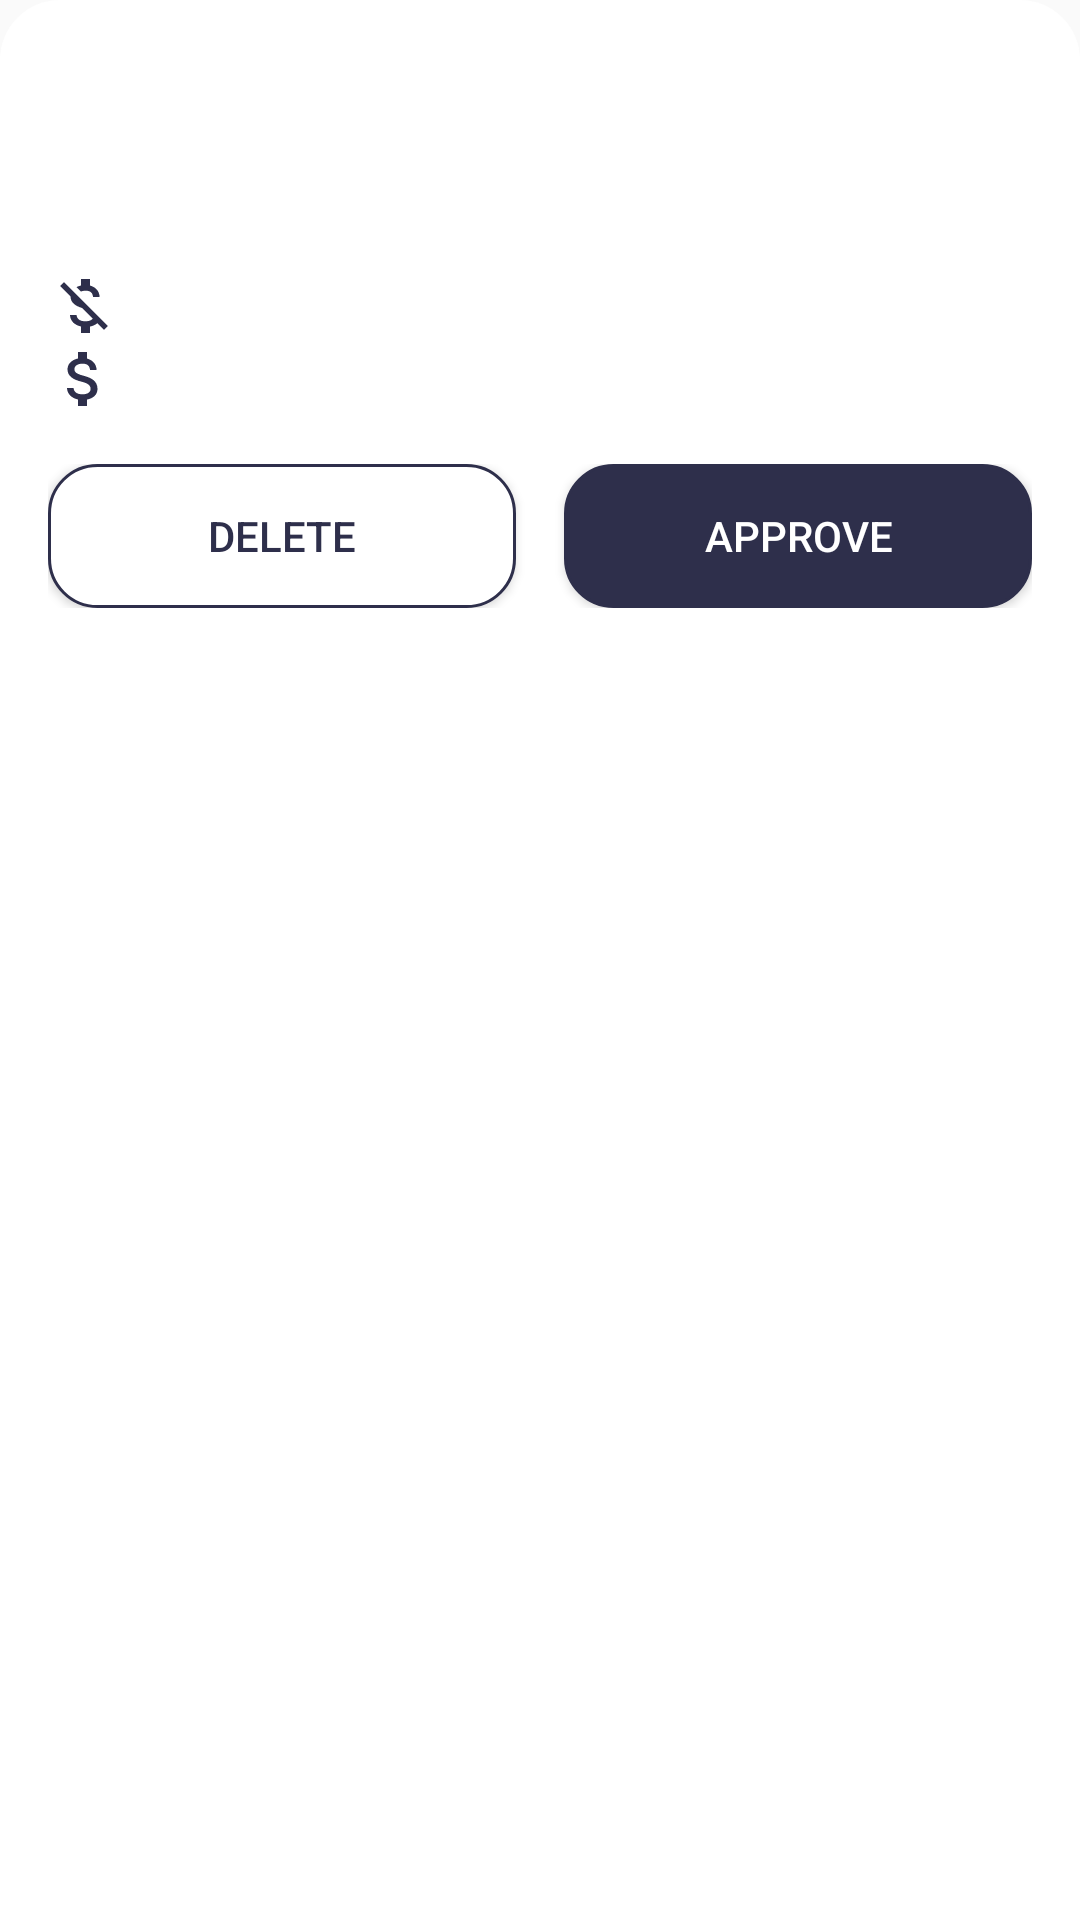

Icon bounding boxes for this 1080 x 1920 phone screenshot, format (x1, y1, x2, y2):
attach money: (67, 352, 98, 406)
money off: (60, 279, 108, 333)
